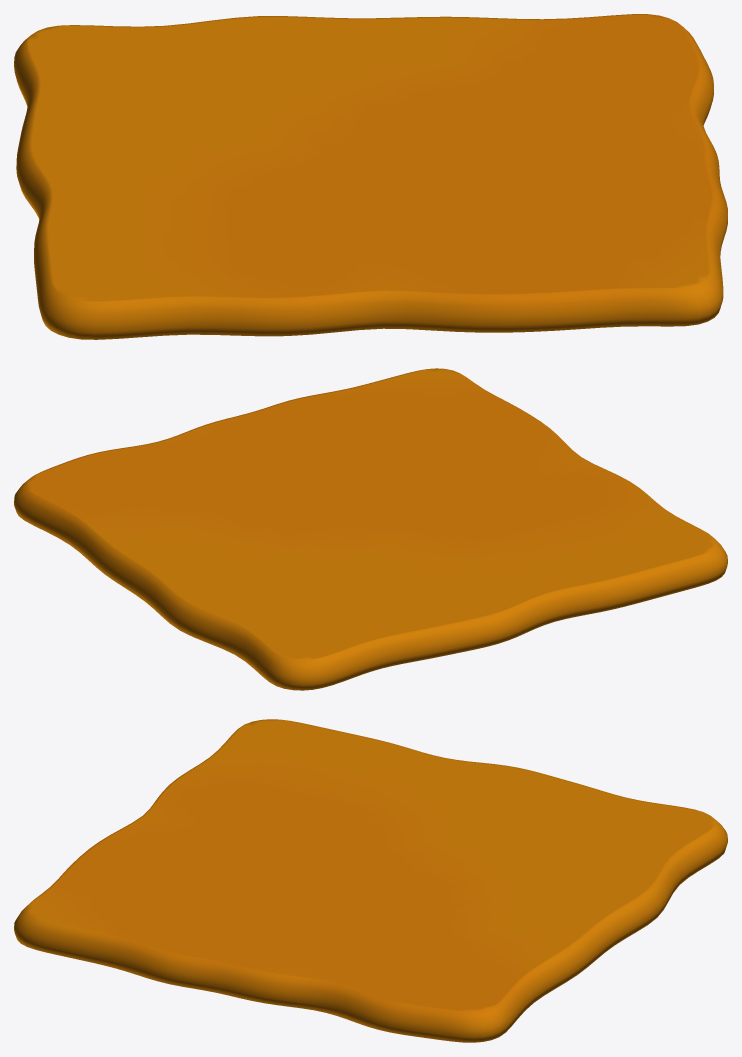
The model's file is testmodelsCube_105.fbx.
The picture shows the model from 3 angles, top to bottom: view 1: azimuth 30°, elevation 25°; view 2: azimuth 150°, elevation 25°; view 3: azimuth 270°, elevation 25°; orthographic projection. The views are drawn at different scales.
Parts seen in each view (by area): view 1: Cube.105; view 2: Cube.105; view 3: Cube.105.
Part boxes in pixels (<box>): Cube.105: <box>14,14,727,339</box>; Cube.105: <box>14,368,727,690</box>; Cube.105: <box>14,719,727,1042</box>.
Size of the model in its own units: 636 by 26.65 by 634.
